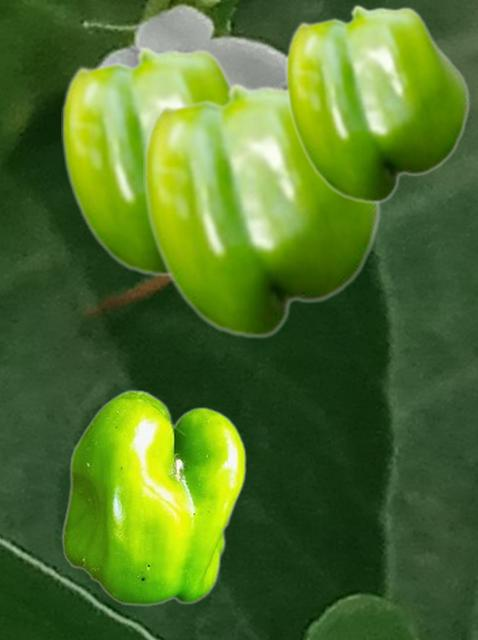bell_pepper: (143, 82, 380, 338), (61, 389, 245, 605), (61, 46, 233, 276), (285, 4, 469, 203)
